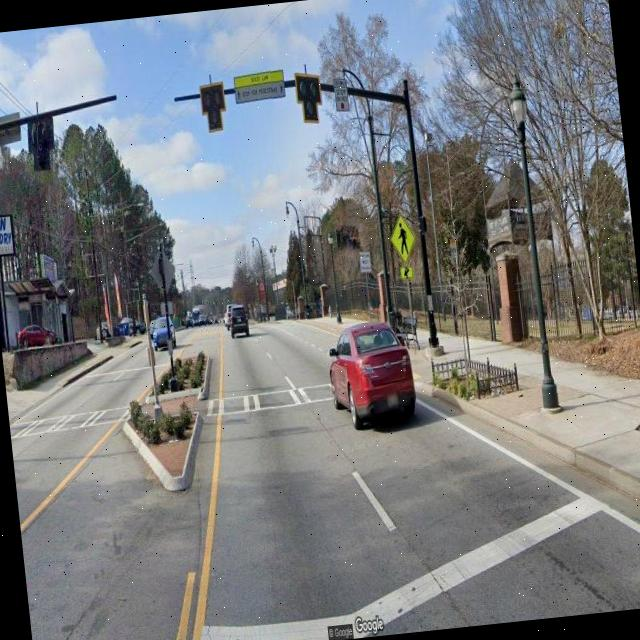seating: (394, 315, 421, 352)
trash_can: (390, 310, 406, 346)
